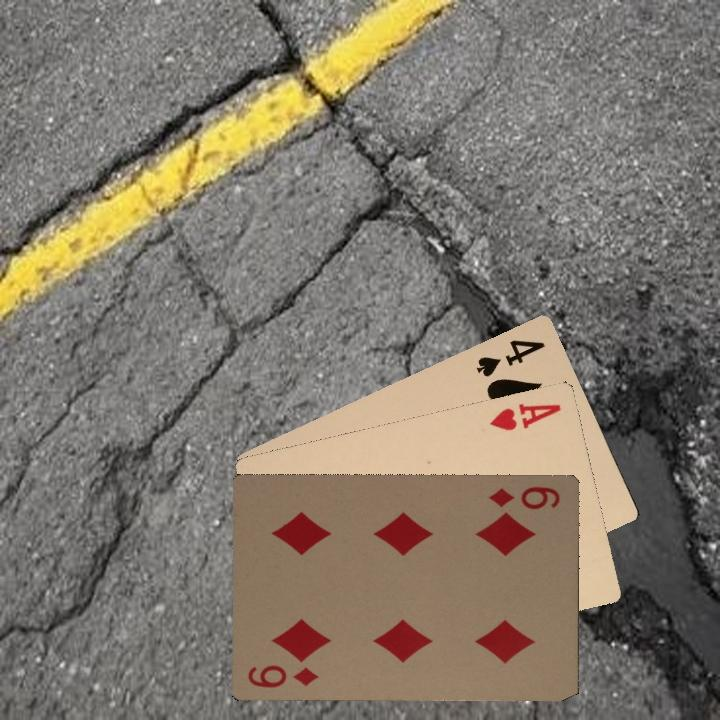4s: (472, 335, 548, 380)
6d: (485, 483, 563, 515), (244, 661, 321, 690)
Ah: (486, 399, 564, 434)
